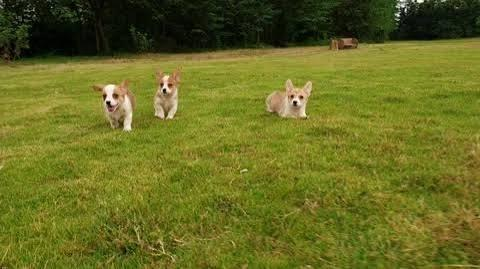adult_dog: (96, 78, 135, 133), (264, 79, 314, 118), (150, 70, 181, 121)
